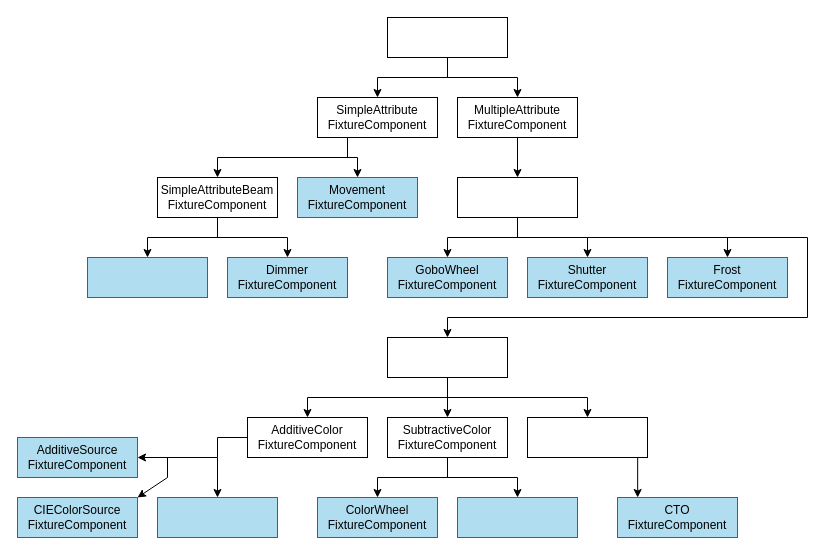
The diagram is 833 pixels wide and 555 high, and some of its shapes have lost their labels. Here are the shapes that lost their labels. From the top down, the centre of each, then its label:
the point at 447,37: FixtureComponent
the point at 517,197: MultipleAttributeBeam FixtureComponent
the point at 147,277: Zoom FixtureComponent
the point at 447,357: ColorSource FixtureComponent
the point at 587,437: ColorCorrection FixtureComponent
the point at 217,517: HSVColorSource FixtureComponent
the point at 517,517: SubtractiveSource FixtureComponent
